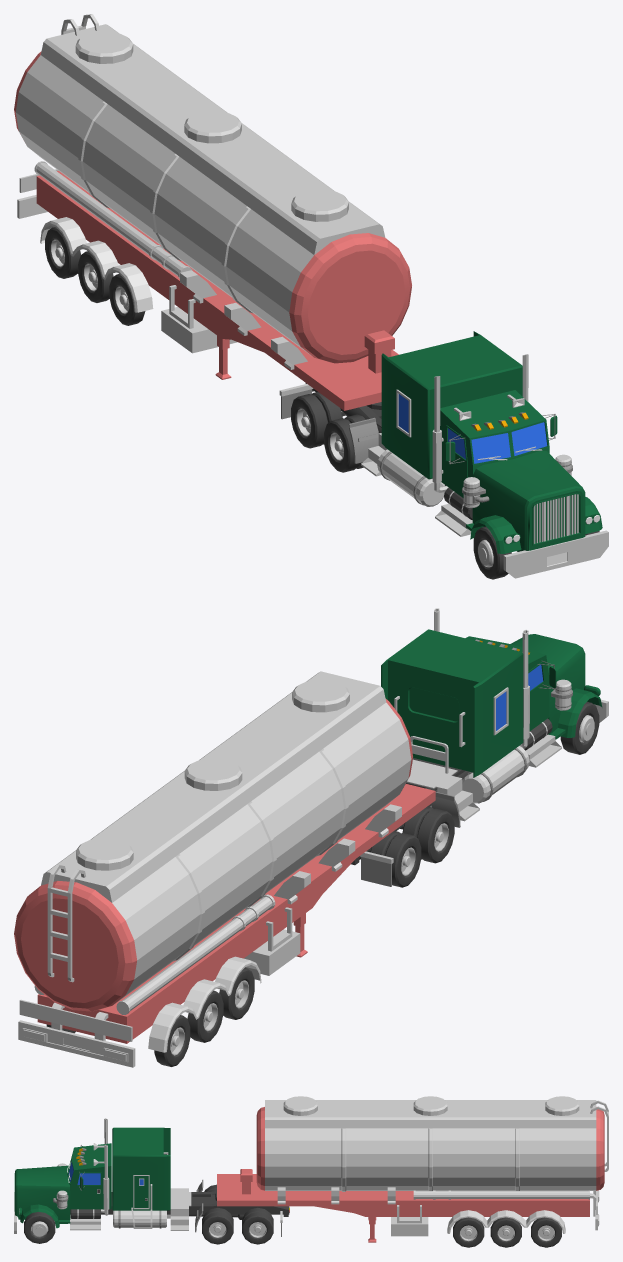
Rendered from trailer.fbx.
The picture shows the model from 3 angles, top to bottom: view 1: azimuth 30°, elevation 25°; view 2: azimuth 150°, elevation 25°; view 3: azimuth 270°, elevation 25°; orthographic projection. The views are drawn at different scales.
Visible parts, largest first — view 1: Bl, cabin, TrailerBox, Box, wheels2_2, Trailer4, Bumper, wing, wheels2_1, barrel2, Radiator, wheels2 (+5 smaller); view 2: Bl, Box, TrailerBox, Trailer4, cabin, wheels2_2, wing, Steps2, wheels2, barrel2, wheels2_1, wheels1 (+4 smaller); view 3: Bl, TrailerBox, Box, cabin, wheels1_2, Bottom, wheels2, Trailer4, wing, wheels2_1, barrel2, Steps2 (+7 smaller).
Boxes of the visible parts, x1,y1,x2,y2 form: Bl: [14, 14, 411, 369]; cabin: [440, 390, 585, 551]; TrailerBox: [36, 171, 398, 410]; Box: [381, 331, 522, 479]; wheels2_2: [45, 227, 145, 325]; Trailer4: [17, 169, 237, 353]; Bumper: [503, 530, 608, 578]; wing: [40, 217, 153, 312]; wheels2_1: [291, 392, 342, 448]; barrel2: [377, 449, 444, 506]; Radiator: [533, 494, 578, 543]; wheels2: [324, 414, 365, 472]; Bl: [14, 671, 412, 1014]; Box: [381, 629, 523, 777]; TrailerBox: [37, 784, 435, 1043]; Trailer4: [18, 907, 300, 1067]; cabin: [465, 634, 585, 739]; wheels2_2: [154, 968, 254, 1066]; wing: [148, 956, 261, 1052]; Steps2: [407, 736, 479, 821]; wheels2: [402, 806, 454, 863]; barrel2: [462, 746, 529, 803]; wheels2_1: [370, 831, 421, 887]; wheels1: [560, 701, 599, 754]; Bl: [256, 1096, 608, 1204]; TrailerBox: [217, 1169, 589, 1242]; Box: [112, 1127, 170, 1210]; cabin: [14, 1143, 111, 1223]; wheels1_2: [453, 1217, 561, 1247]; Bottom: [70, 1191, 289, 1219]; wheels2: [202, 1184, 233, 1244]; Trailer4: [391, 1190, 599, 1236]; wing: [447, 1210, 565, 1233]; wheels2_1: [242, 1207, 273, 1244]; barrel2: [113, 1210, 166, 1228]; Steps2: [167, 1188, 191, 1230].
Bounding box in the file's own units: 192 × 312 × 1308.
